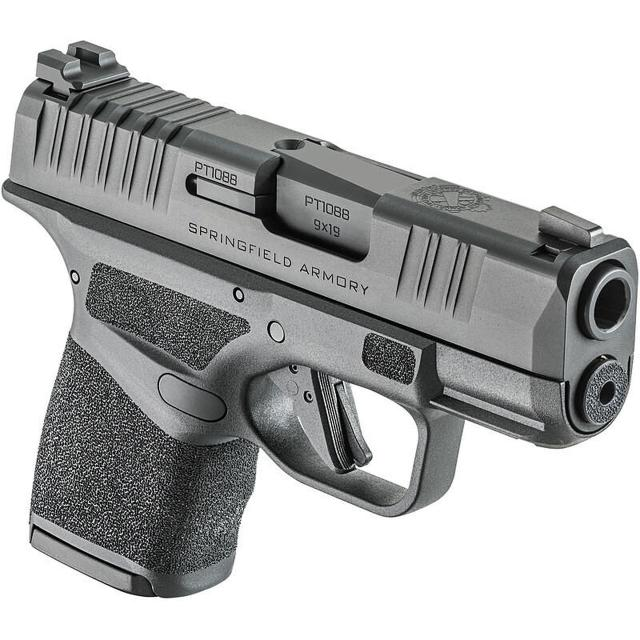HandGun: (0, 42, 639, 600)
